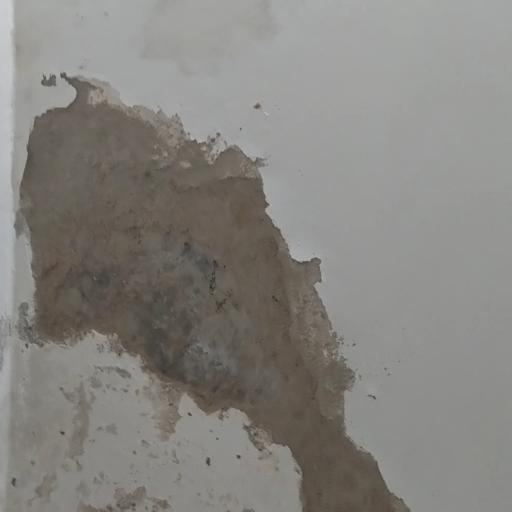peeling: (13, 59, 461, 512)
